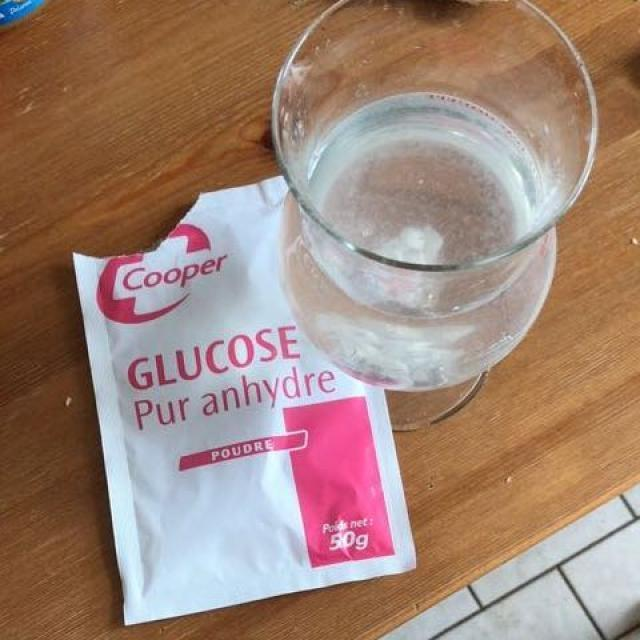drink: (321, 131, 521, 261)
